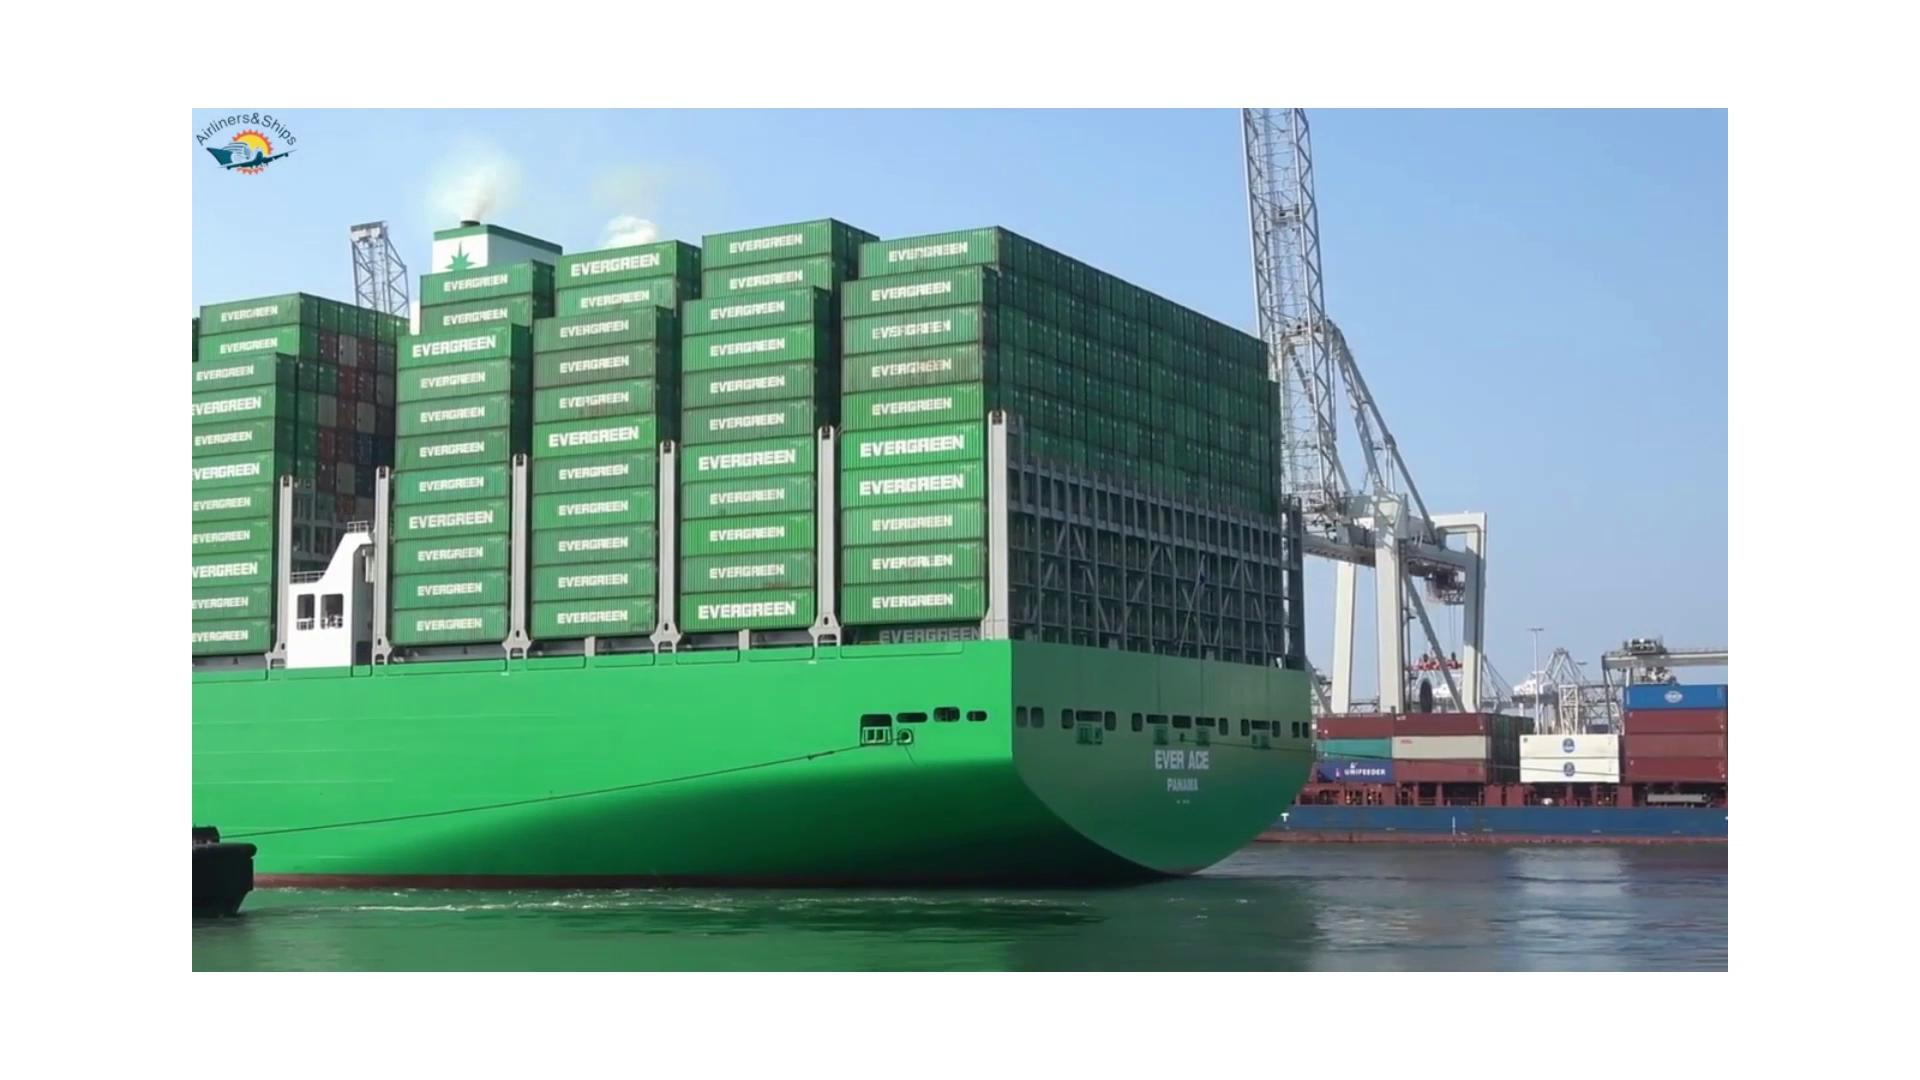OCR: (1141, 737, 1236, 818)
